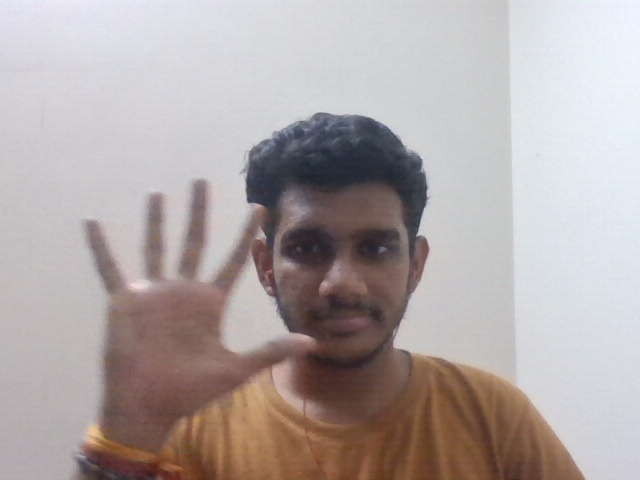hello: (79, 176, 316, 424)
